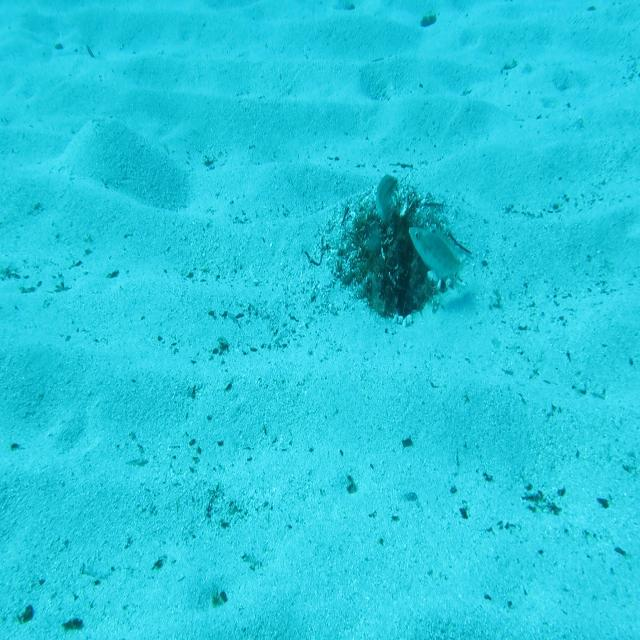GB: (408, 216, 472, 290)
female: (370, 168, 408, 238)
nest: (323, 192, 448, 342)
